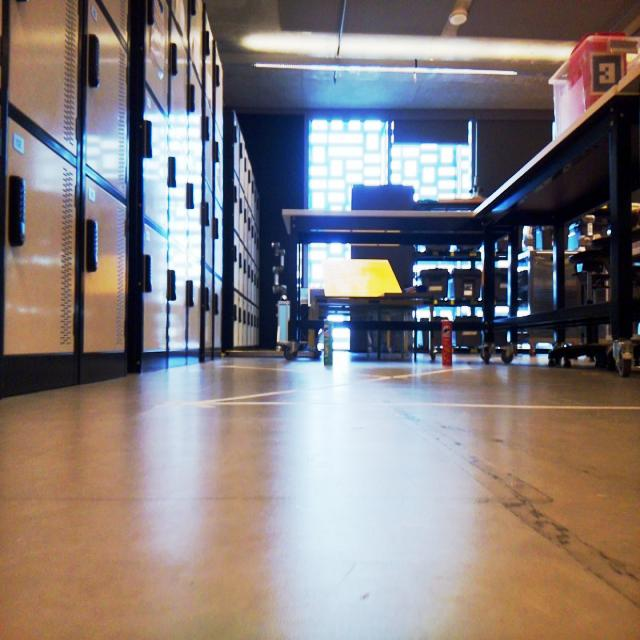greenpringles: (315, 308, 341, 374)
redpringles: (433, 310, 458, 381)
